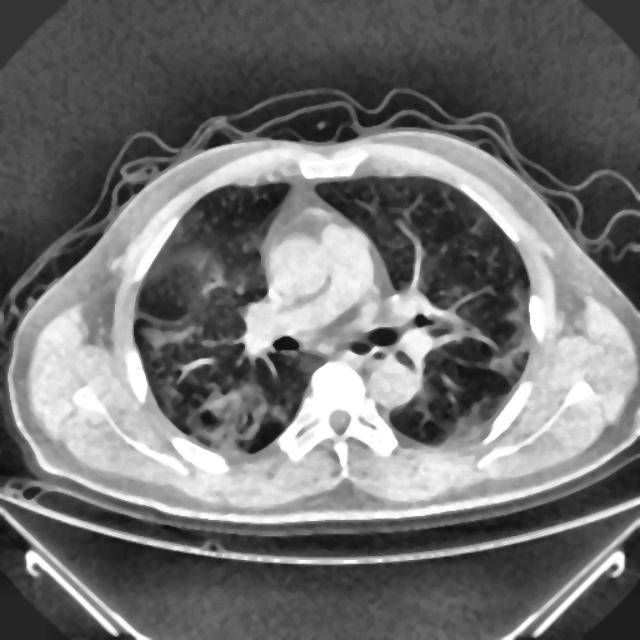covid: (4, 96, 638, 535)
